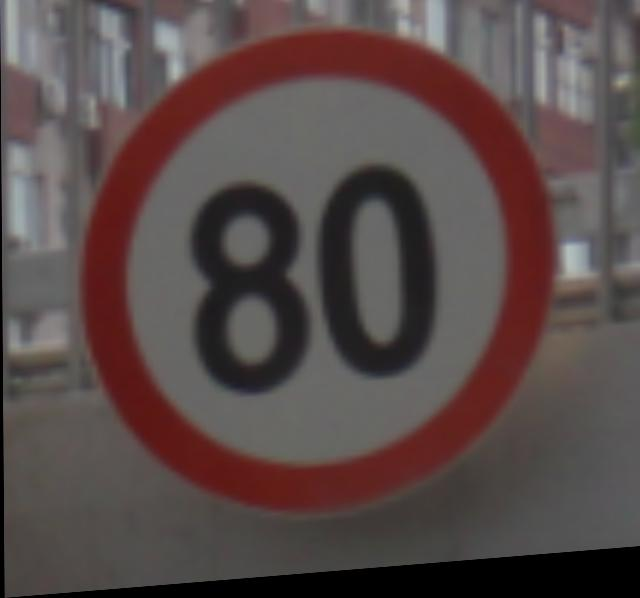limit80: (65, 12, 563, 554)
